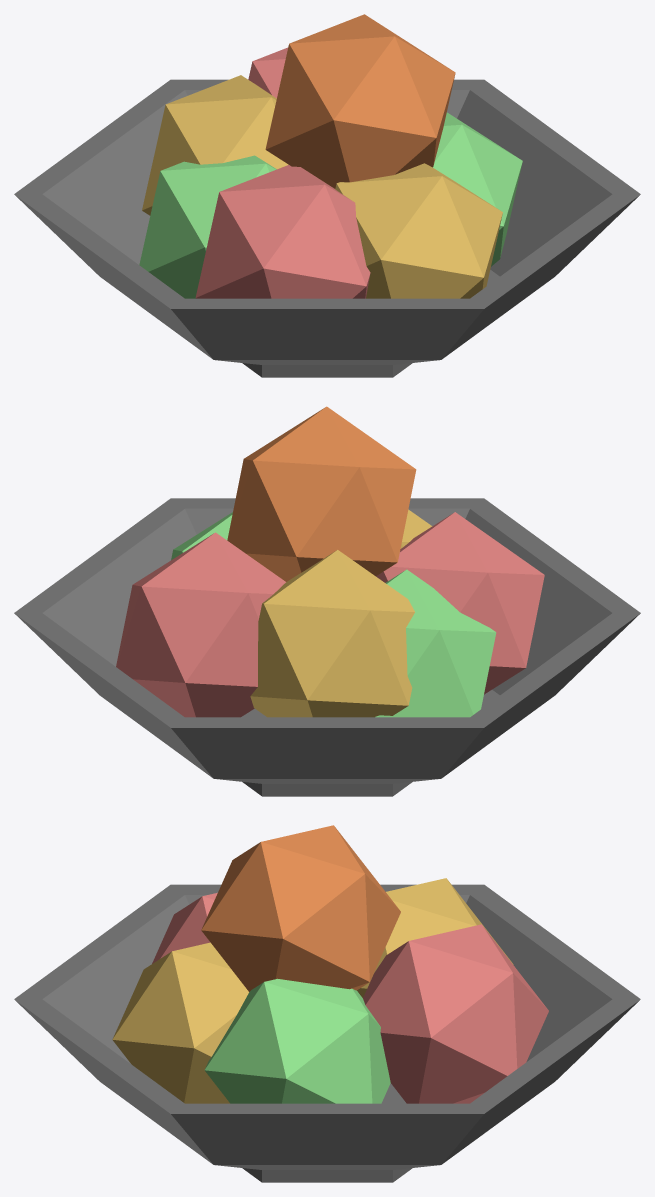
Rendered from Bowl.fbx.
3 renders of one model, top to bottom at view 1: azimuth 30°, elevation 25°; view 2: azimuth 150°, elevation 25°; view 3: azimuth 270°, elevation 25°, orthographic.
Parts seen in each view (by area): view 1: Bowl; view 2: Bowl; view 3: Bowl.
Part boxes in pixels (x1=…): Bowl: x1=14, y1=14, x2=640, y2=377; Bowl: x1=14, y1=406, x2=640, y2=796; Bowl: x1=14, y1=825, x2=640, y2=1182.
Size of the model in its own units: 65.82 by 41.41 by 76.
